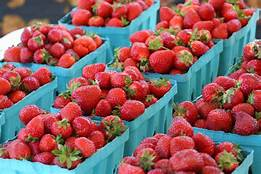Fresa: (168, 147, 206, 174), (71, 84, 102, 114), (146, 48, 177, 76), (206, 106, 235, 134), (98, 112, 125, 142), (233, 109, 259, 139), (117, 98, 147, 123), (167, 114, 194, 140), (58, 100, 85, 126), (211, 150, 240, 174), (69, 135, 97, 159), (23, 113, 45, 142), (221, 86, 246, 111), (79, 62, 109, 81), (149, 76, 173, 98), (128, 41, 152, 63), (36, 132, 61, 153), (54, 52, 79, 70), (188, 39, 211, 58), (1, 69, 21, 90), (31, 50, 53, 64)
